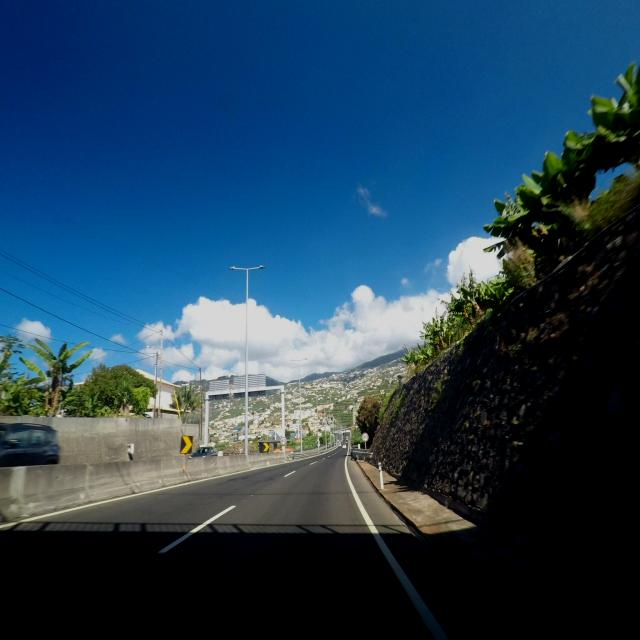car: (0, 422, 61, 468), (192, 445, 218, 457)
